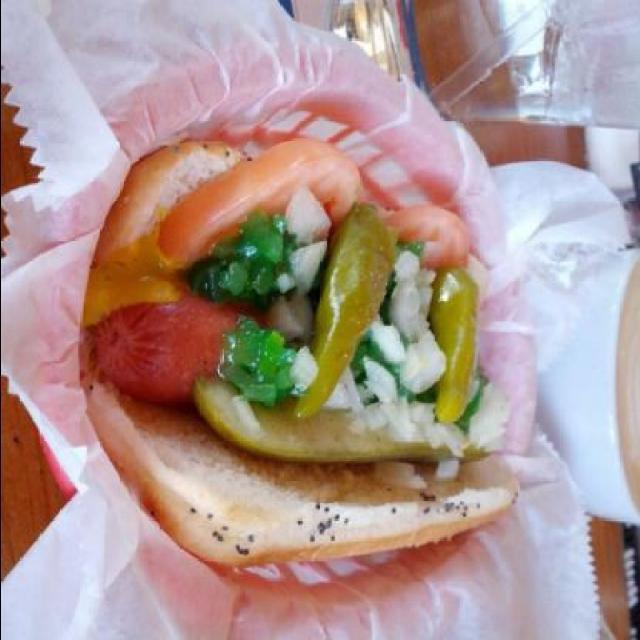Hot dog: (76, 137, 522, 568)
